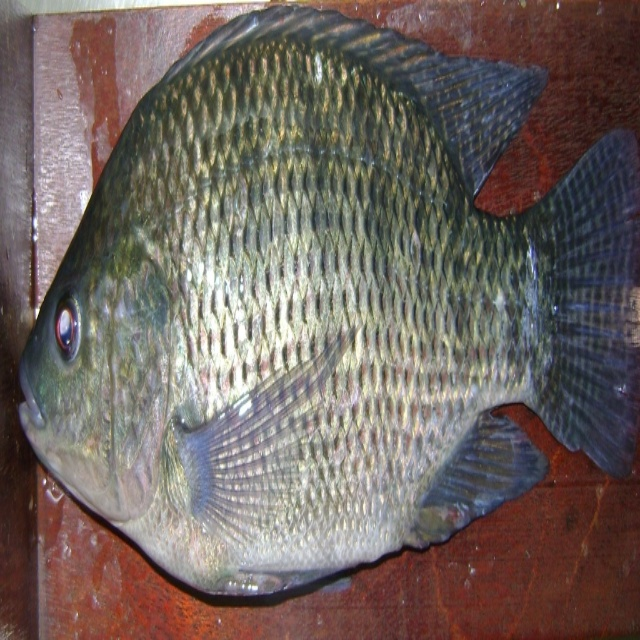Fish: (17, 0, 640, 600)
